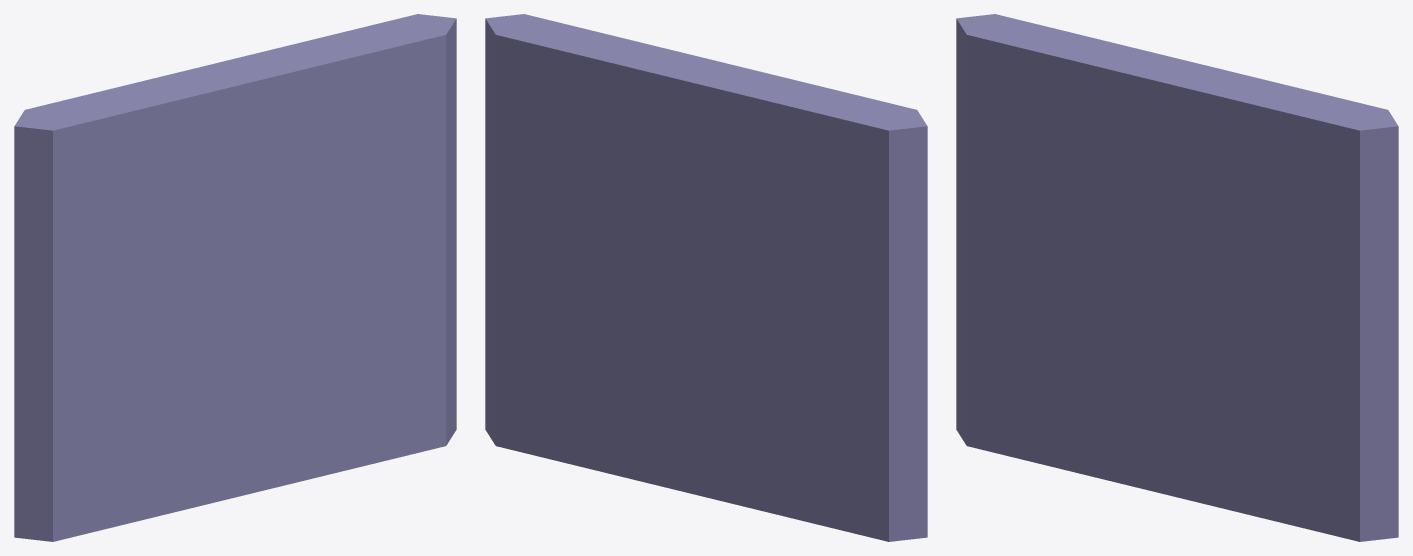
Rendered from wall.fbx.
The picture shows the model from 3 angles, left to right: view 1: azimuth 30°, elevation 25°; view 2: azimuth 150°, elevation 25°; view 3: azimuth 330°, elevation 25°; orthographic projection.
Parts seen in each view (by area): view 1: wall; view 2: wall; view 3: wall.
Part boxes in pixels (bbox=[...]): wall: bbox=[14, 14, 456, 541]; wall: bbox=[485, 14, 927, 541]; wall: bbox=[956, 14, 1398, 541].
Bounding box in the file's own units: 11.25 × 10 × 1.25.
